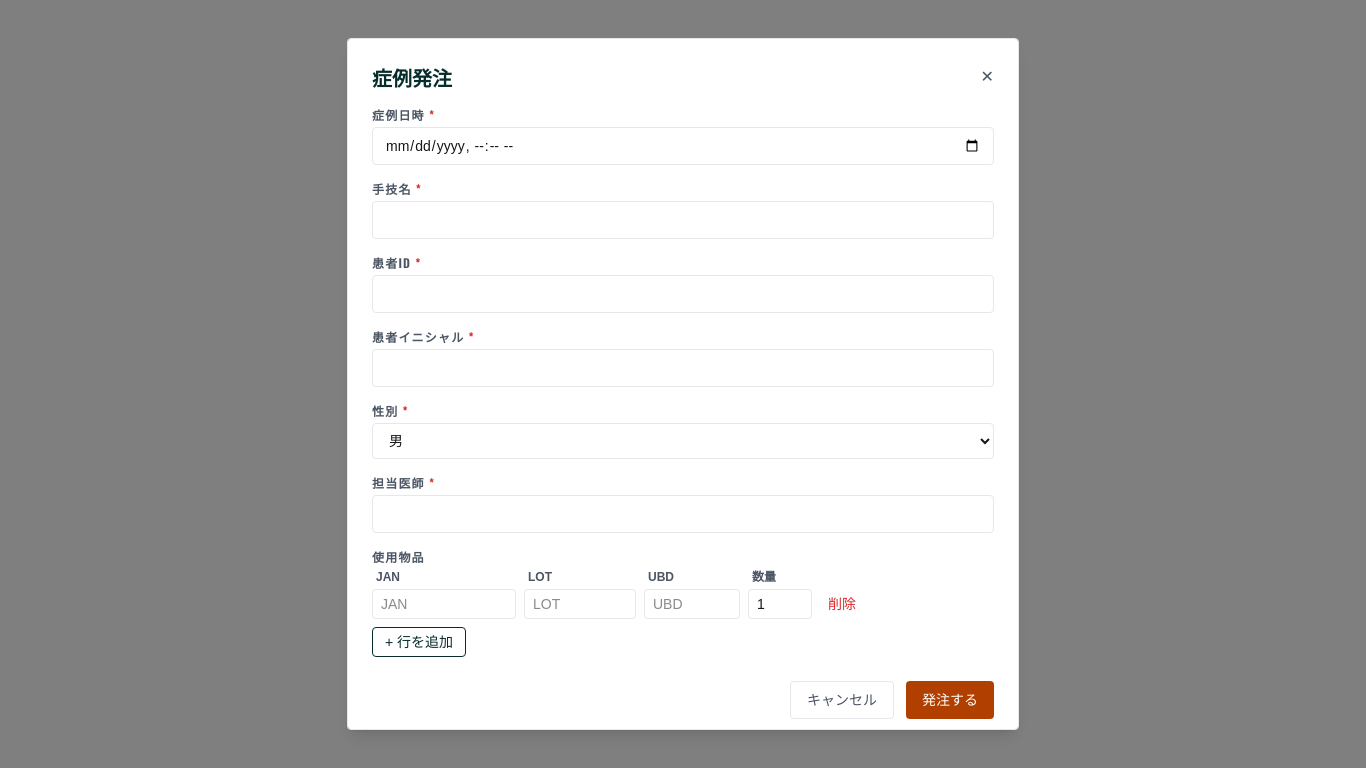
Scenario: CaseOrderModal › APIエラー時にエラーメッセージが表示される
The image size is (1366, 768).
Step 1. Type "2026-06-24T10:00" into the field labelled "症例日時 *" → (683, 146), box [372,127,994,165]
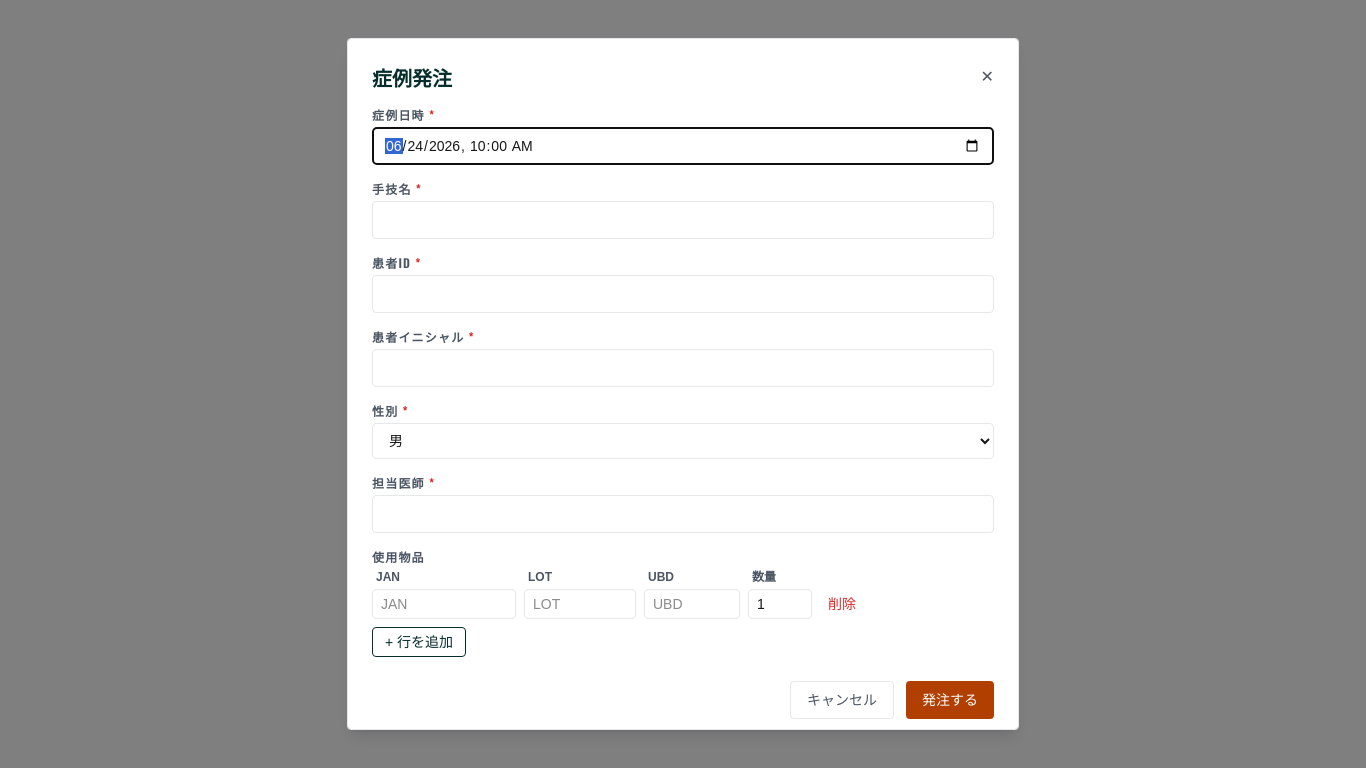
Step 2. Type "TAVI" into the field labelled "手技名 *" → (683, 220), box [372,201,994,239]
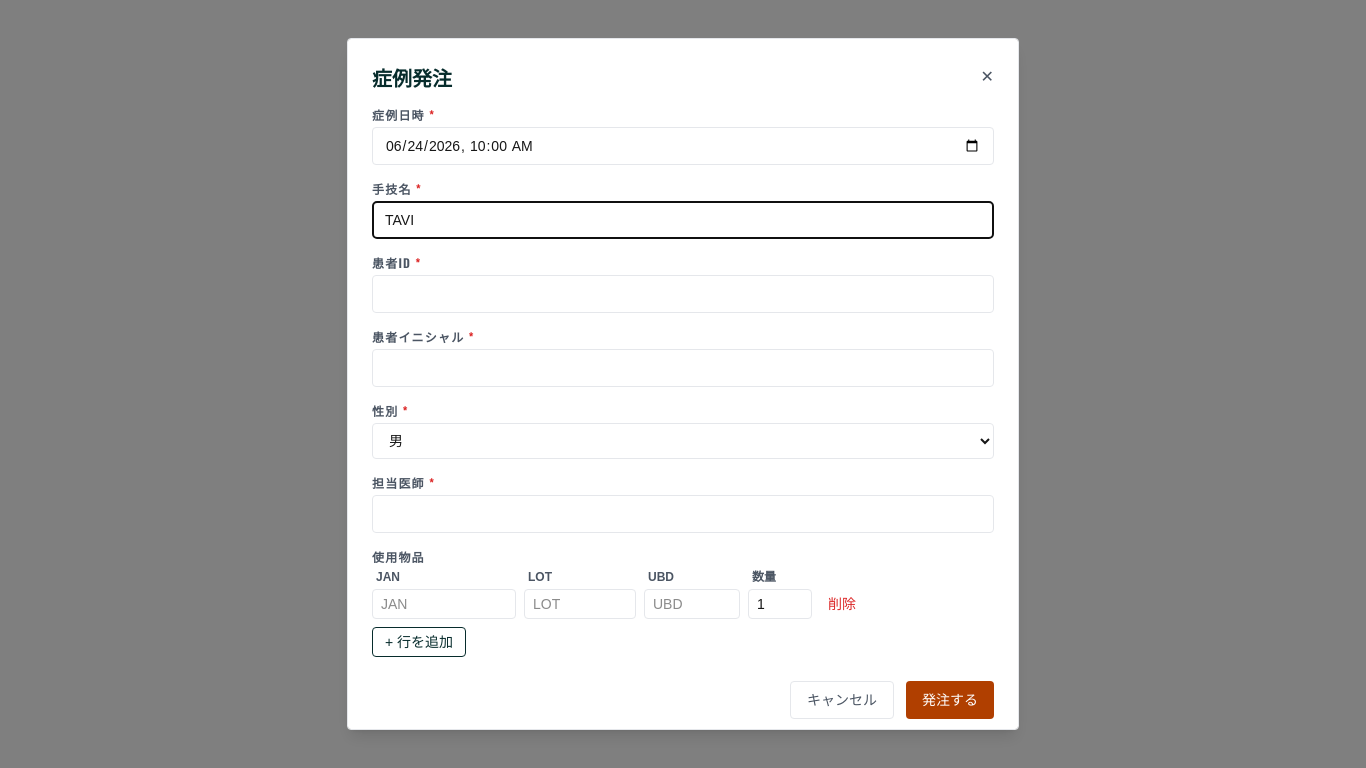
Step 3. Type "P001" into the field labelled "患者ID *" → (683, 294), box [372,275,994,313]
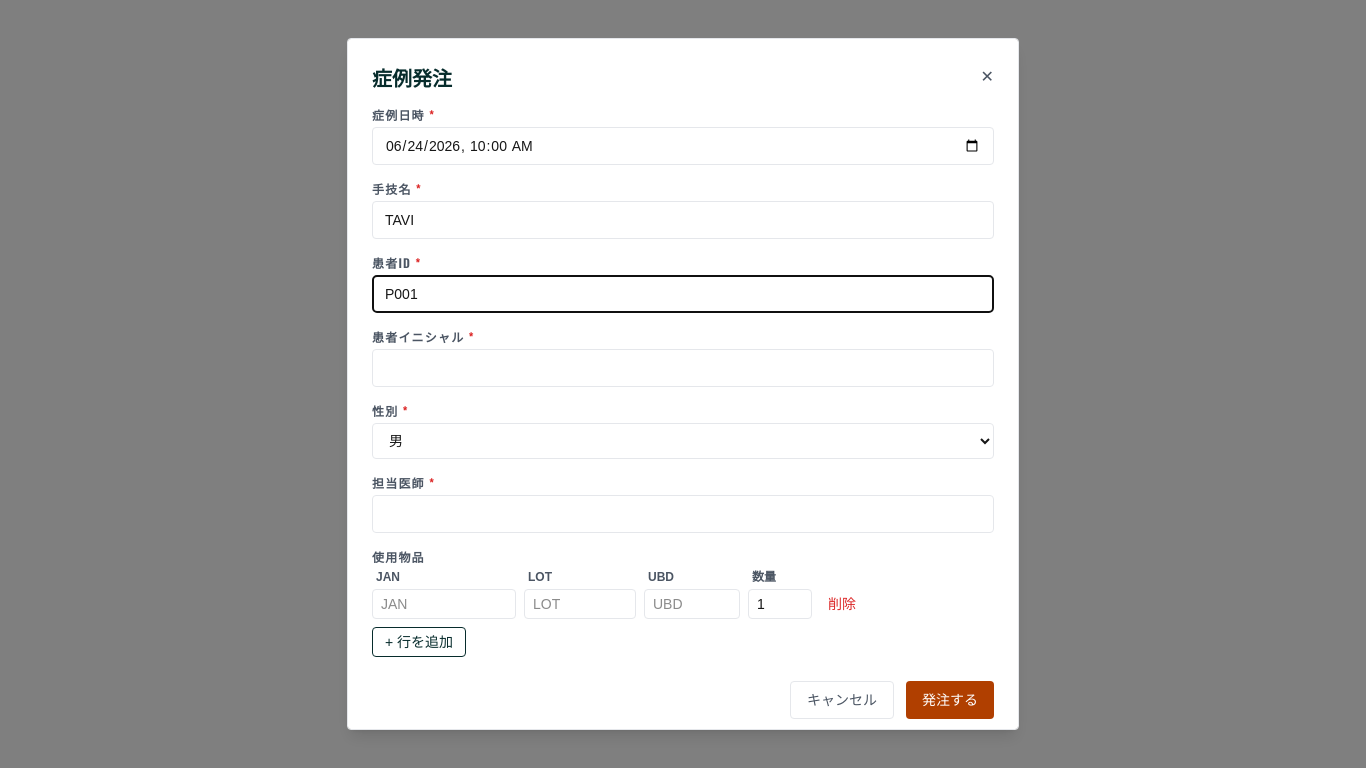
Step 4. Type "T.S." into the field labelled "患者イニシャル *" → (683, 368), box [372,349,994,387]
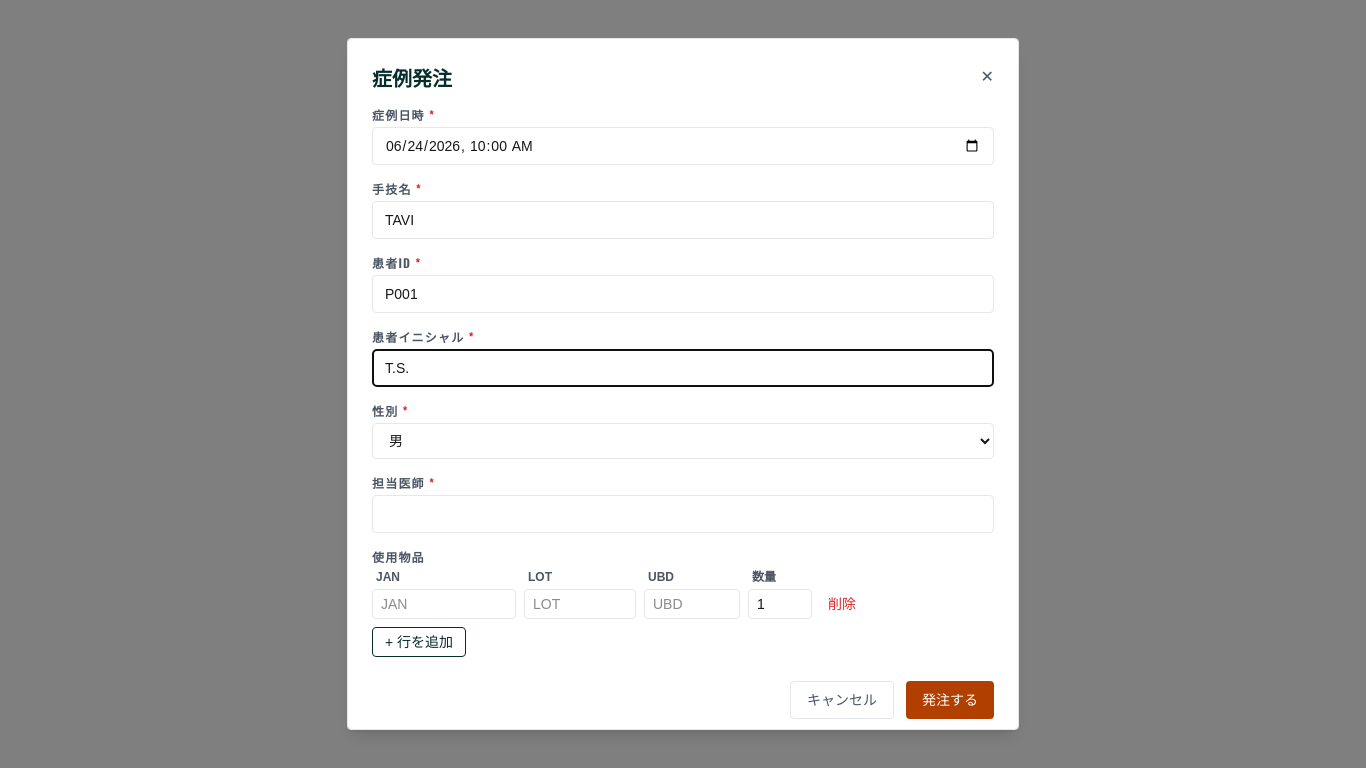
Step 5. Type "田中医師" into the field labelled "担当医師 *" → (683, 514), box [372,495,994,533]
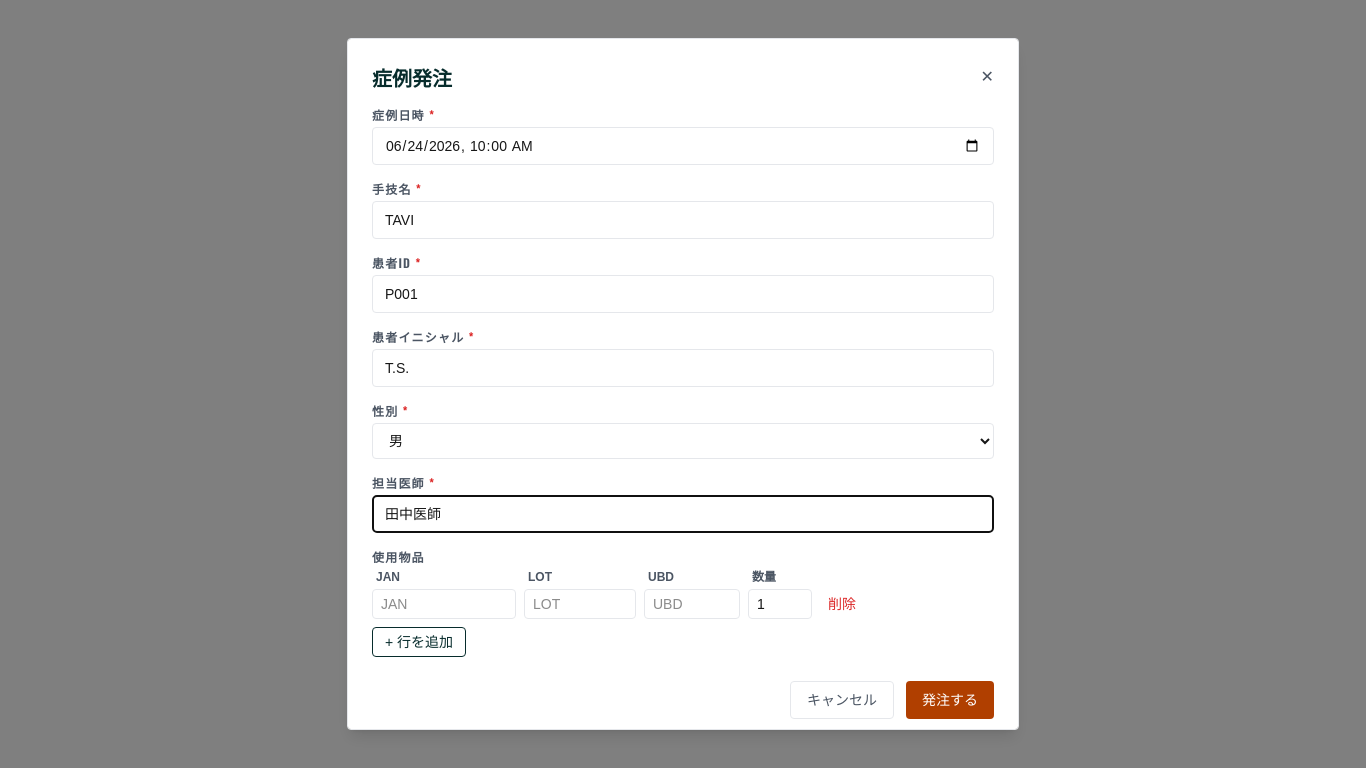
Step 6. Click the button "発注する" → (950, 700), box [906,681,994,719]
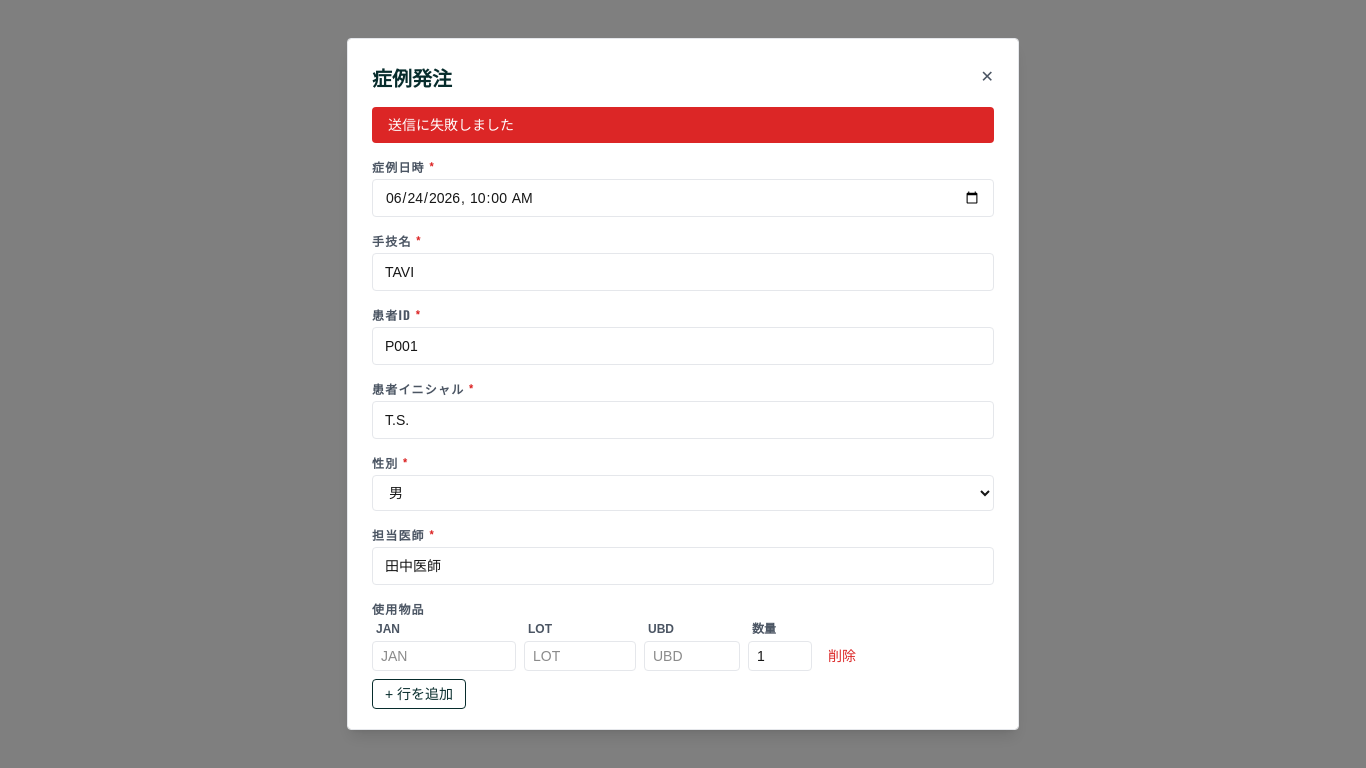
Expected: the text "送信に失敗しました" is shown, [372,107,994,143]
